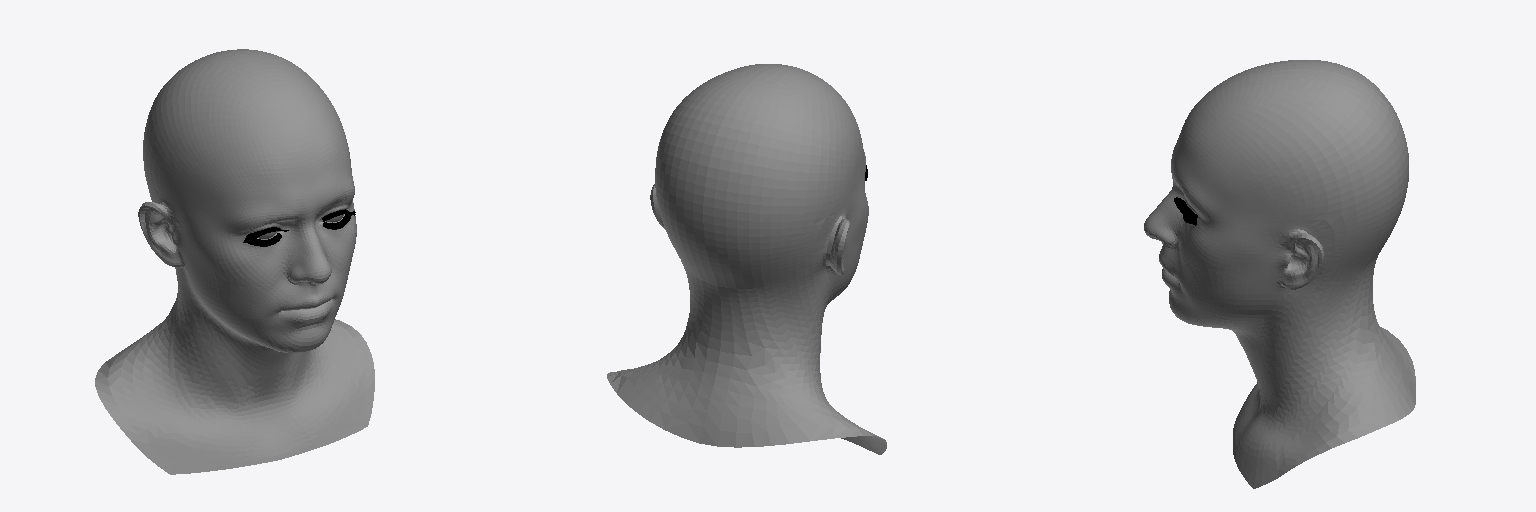
The model's file is browDown_R.obj.
The picture shows the model from 3 angles: view 1: azimuth 30°, elevation 25°; view 2: azimuth 150°, elevation 25°; view 3: azimuth 270°, elevation 25°; orthographic projection.
Bounding box in the file's own units: 24.83 × 33.81 × 22.32.